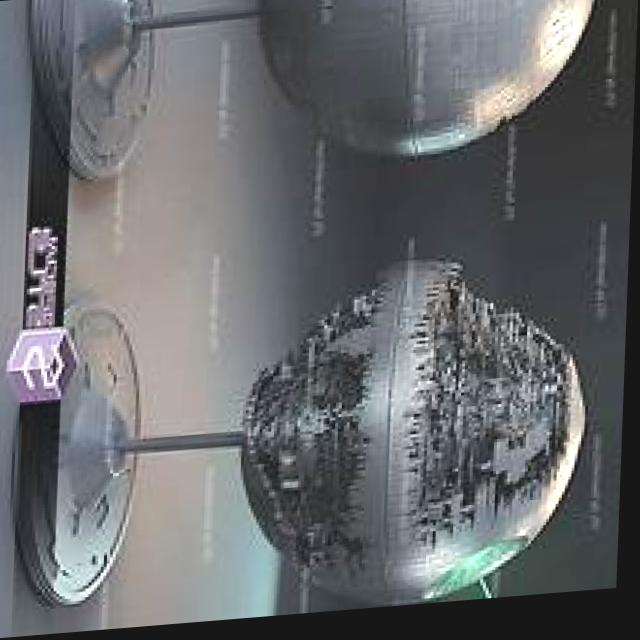deathStar: (239, 247, 595, 623)
